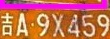A: (16, 13, 28, 36)
